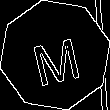M_N: (27, 25, 83, 85)
